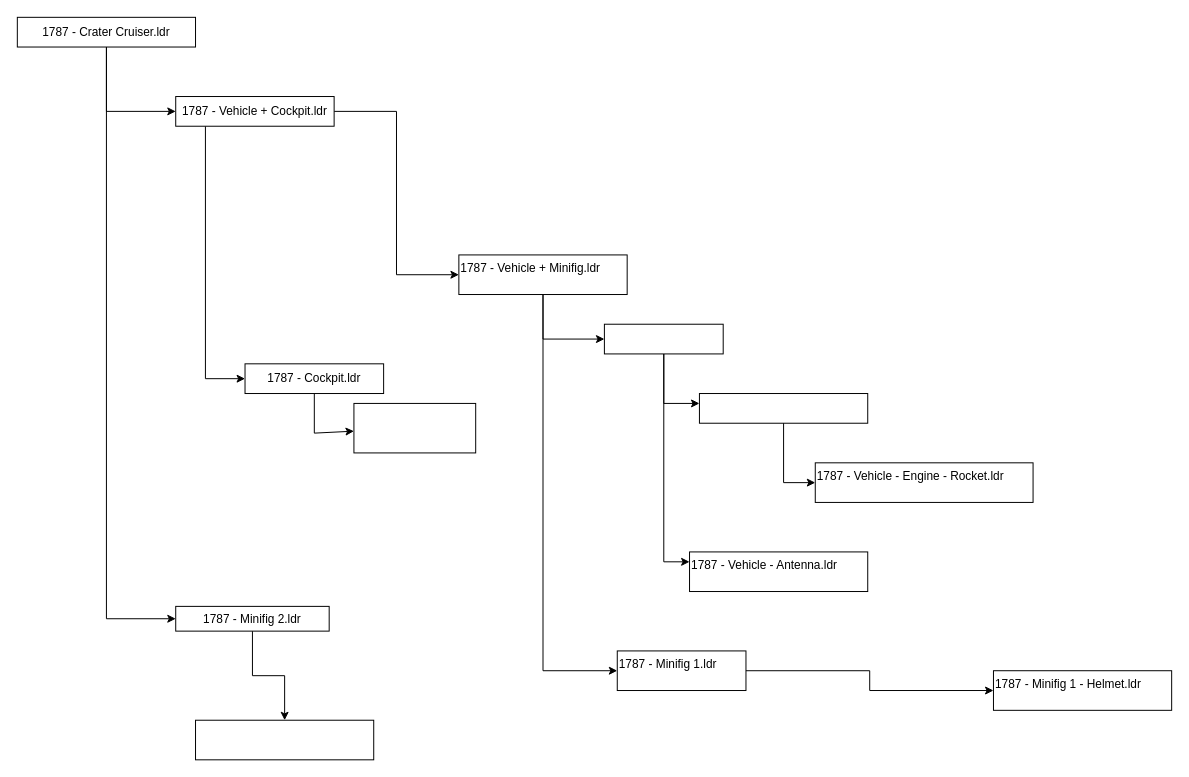
The diagram is 1189 pixels wide and 777 high, and some of its shapes have lost their labels. Each missing label, with the centre of its shape:
"1787 - Cockpit - Control Panel.ldr" goes at (414,427).
"1787 - Minifig 2 - Helmet.ldr" goes at (284,739).
"1787 - Vehicle - Engine.ldr" goes at (783,408).
"1787 - Vehicle.ldr" goes at (663,338).
